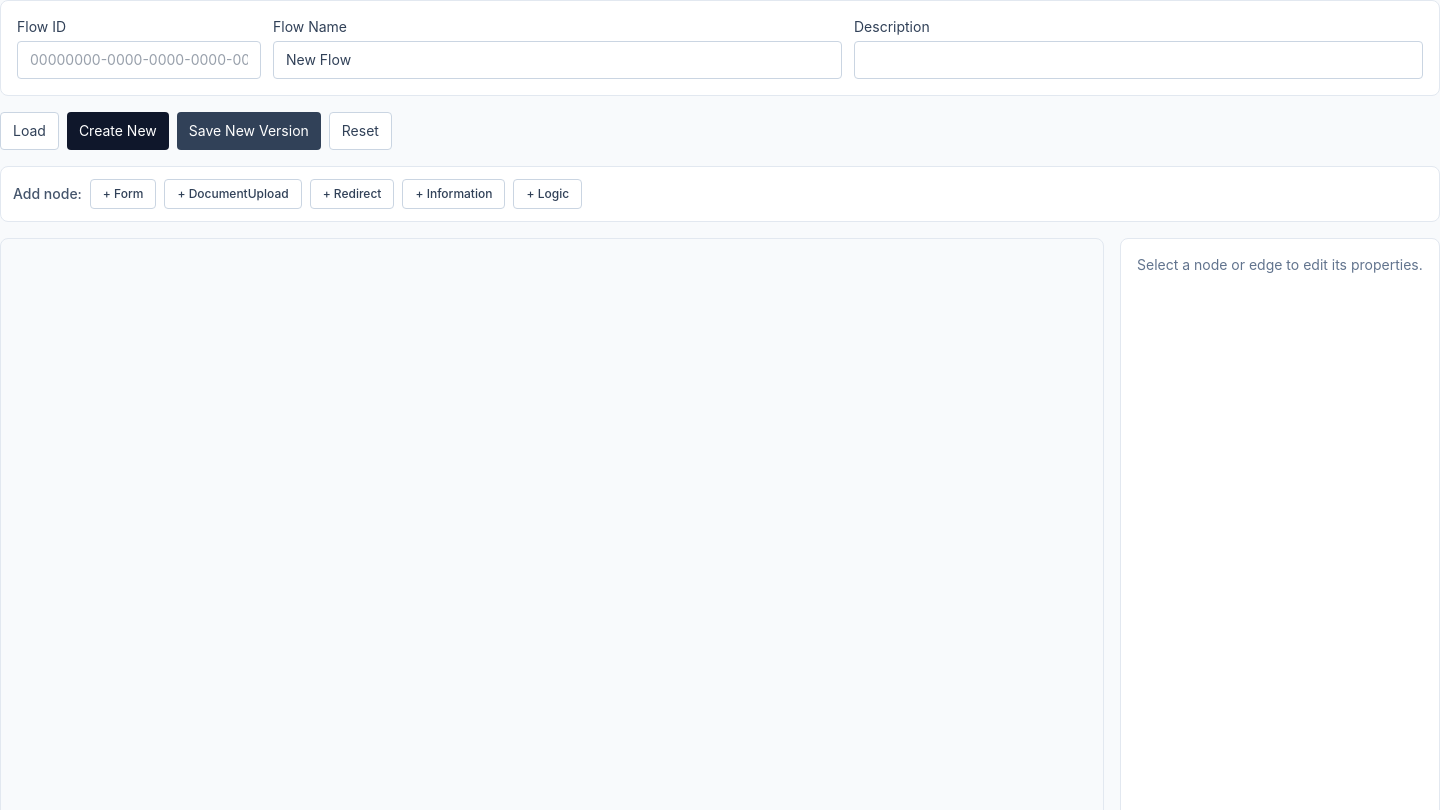
Scenario: VisualJourneyBuilder › loads flow and updates name on success
In the field with placeholder "00000000-0000-0000-0000-000000000000": coordinates (139, 60) [17,41,261,79], type "flow-123"
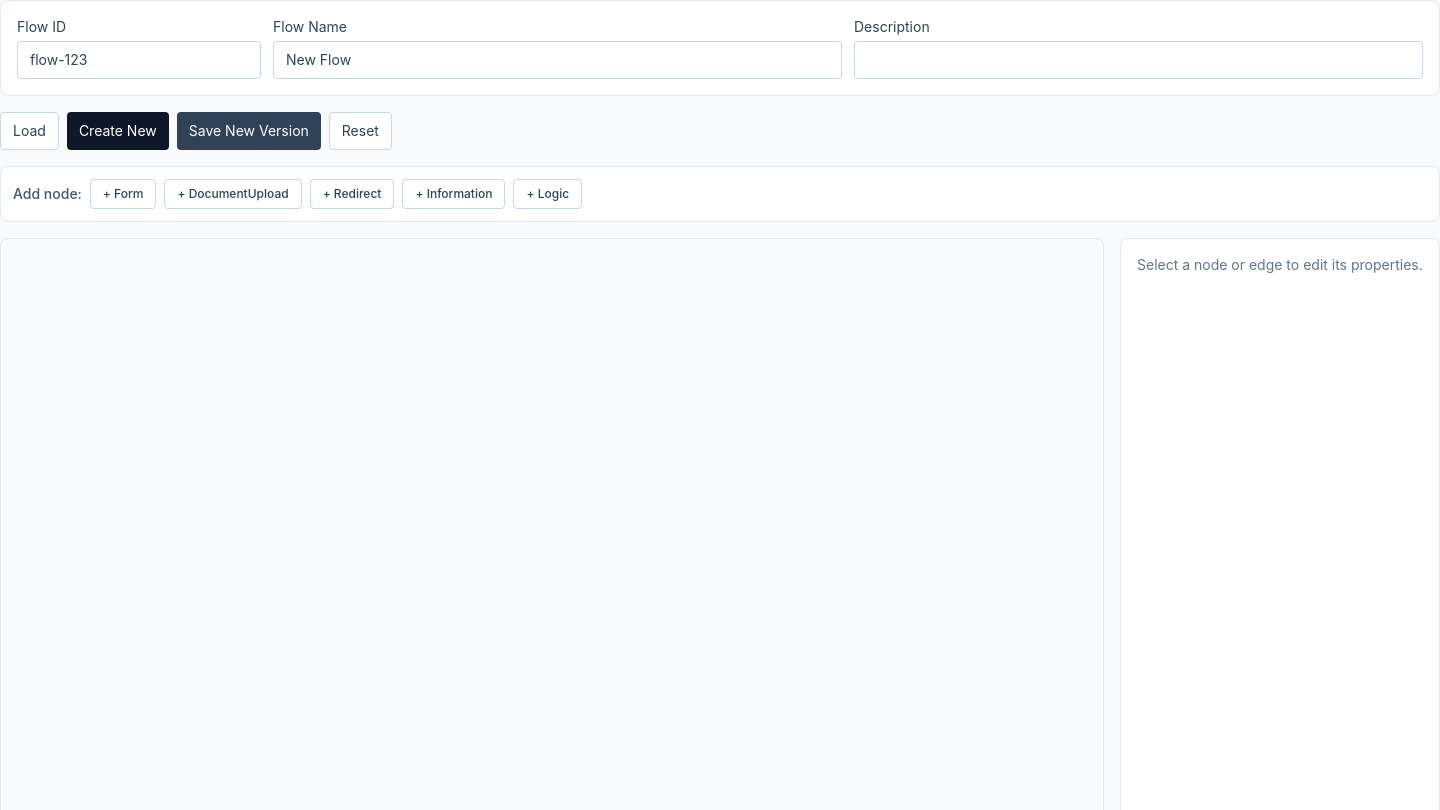
Click the button "Load": coordinates (29, 131) [0,112,59,150]
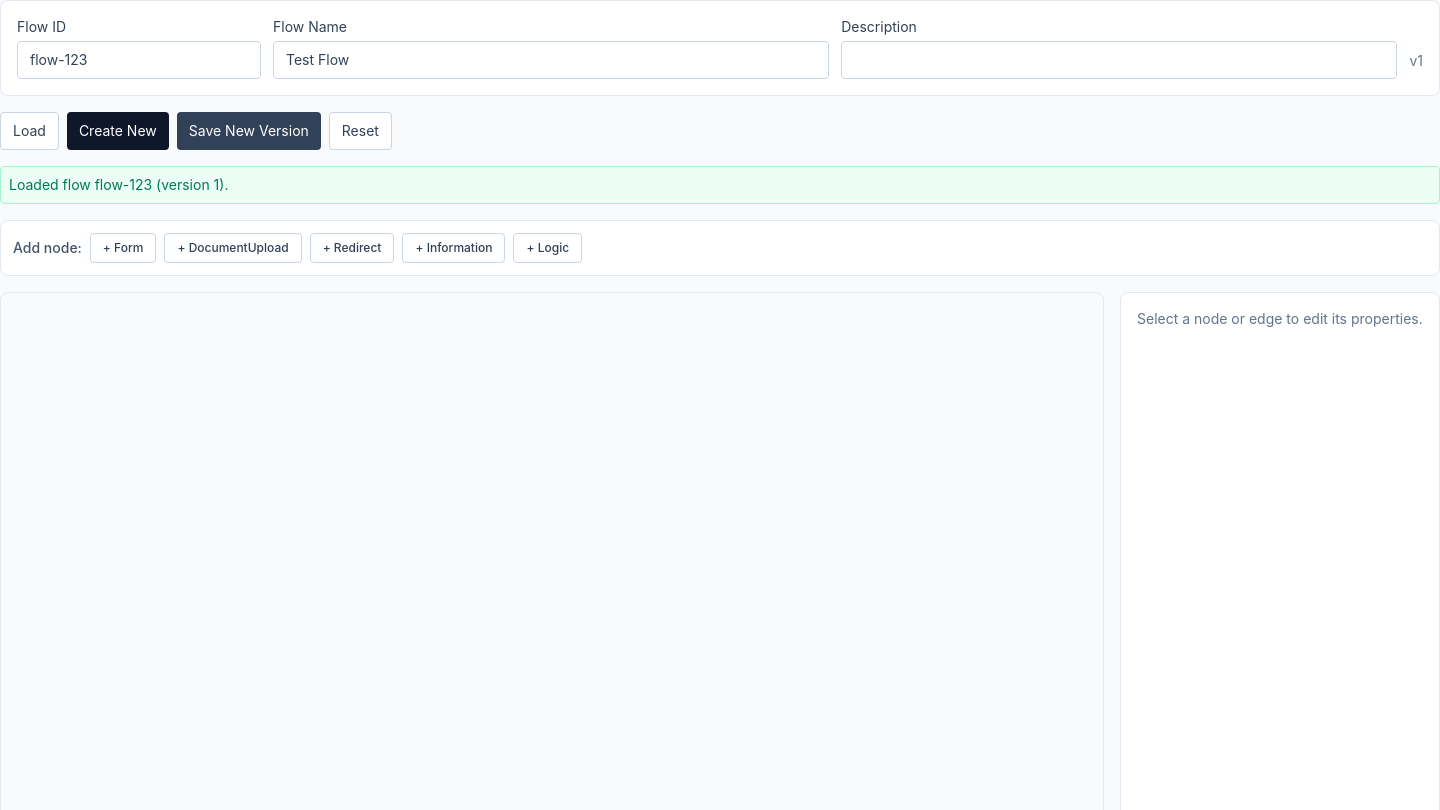
Expected: the field showing "Test Flow" is shown, [273,41,829,79]
